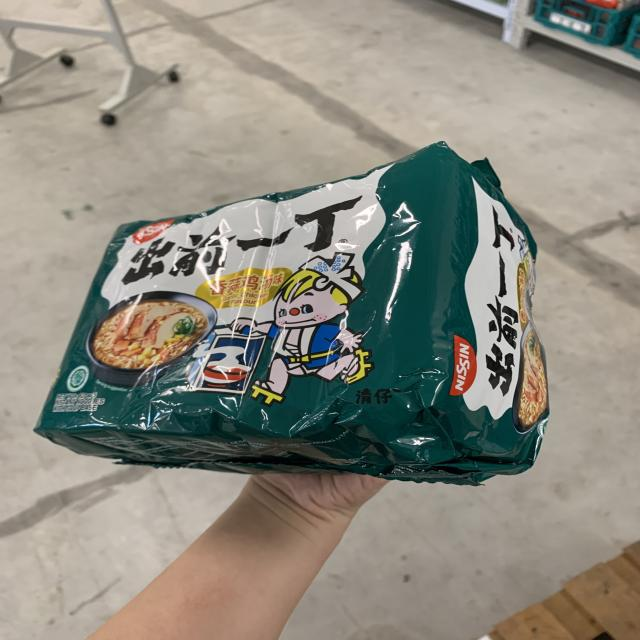object_name: (91, 205, 526, 447)
